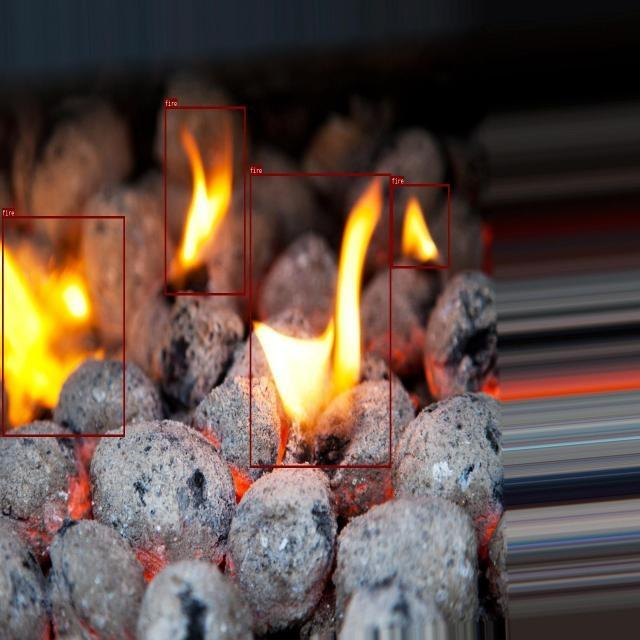fire: (249, 173, 391, 467), (2, 216, 125, 436), (165, 106, 245, 295), (391, 183, 449, 268)
